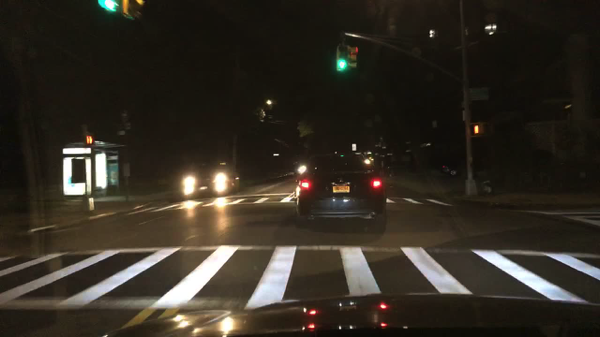car: (296, 154, 386, 233), (178, 164, 240, 200), (438, 154, 465, 178)
traffic light: (125, 1, 146, 21), (335, 44, 348, 74), (98, 1, 120, 16), (471, 122, 486, 136), (350, 46, 358, 70), (81, 132, 94, 145)
traffic sign: (469, 87, 490, 102)
